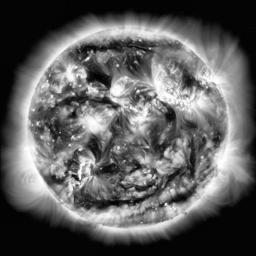solar flares: (153, 67, 180, 105), (81, 104, 111, 132), (77, 152, 97, 180), (108, 77, 130, 102), (128, 104, 147, 125), (61, 65, 81, 84), (182, 93, 199, 115), (87, 84, 102, 101), (214, 148, 224, 161)
sunspots: (86, 192, 155, 206), (126, 59, 152, 81), (84, 41, 140, 51), (47, 114, 67, 141), (85, 64, 109, 83), (91, 135, 106, 156), (179, 70, 194, 90), (188, 136, 195, 174), (63, 95, 87, 106), (155, 140, 169, 155), (171, 190, 190, 201), (99, 164, 127, 171), (164, 108, 176, 123), (133, 181, 153, 190), (167, 169, 179, 183), (214, 133, 223, 149), (52, 174, 67, 182), (115, 117, 126, 126), (71, 112, 85, 118), (133, 158, 140, 169), (201, 137, 208, 148), (186, 122, 194, 129)
